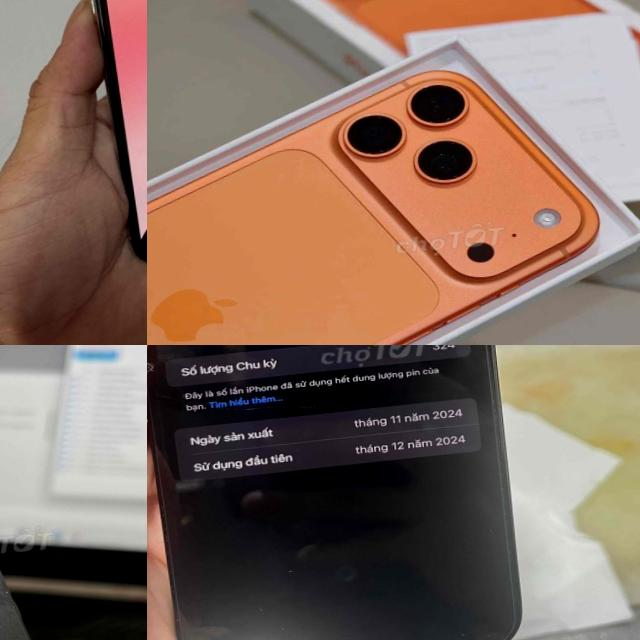gen_12_13: (0, 345, 107, 640)
gen_16: (147, 345, 549, 640)
gen_17: (147, 37, 640, 345), (147, 70, 599, 345), (147, 0, 342, 300)
gen_x_xs: (73, 0, 147, 272)
